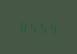eight: (18, 18, 27, 33)
five: (28, 19, 37, 33), (38, 20, 47, 34)
nine: (48, 20, 57, 35)
